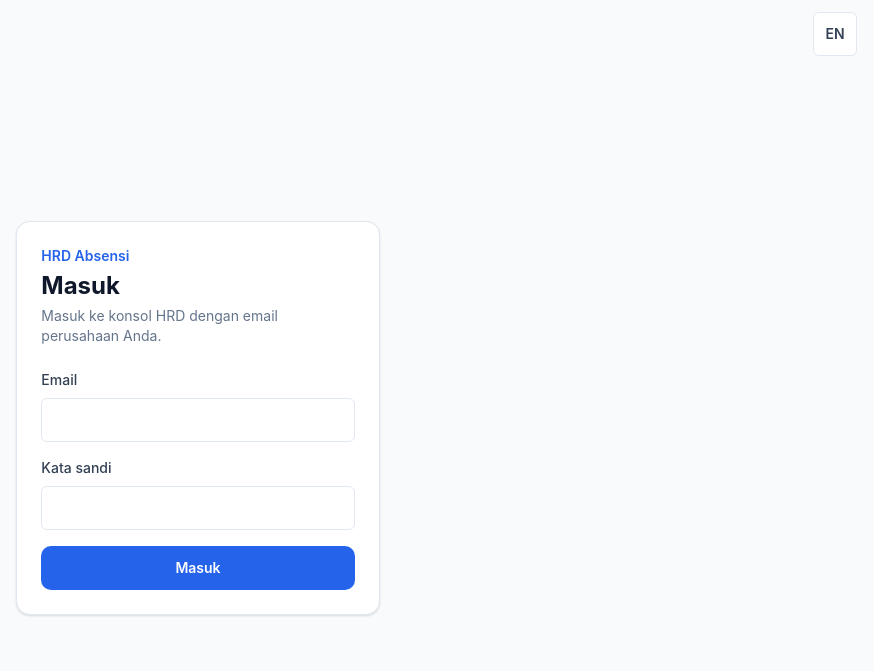
Test: LoginPage › shows the generic failure plus the attempts left on a rejected sign-in
Type "admin@corp.test" into the field labelled "Email" at (198, 420), box [41,398,355,442]
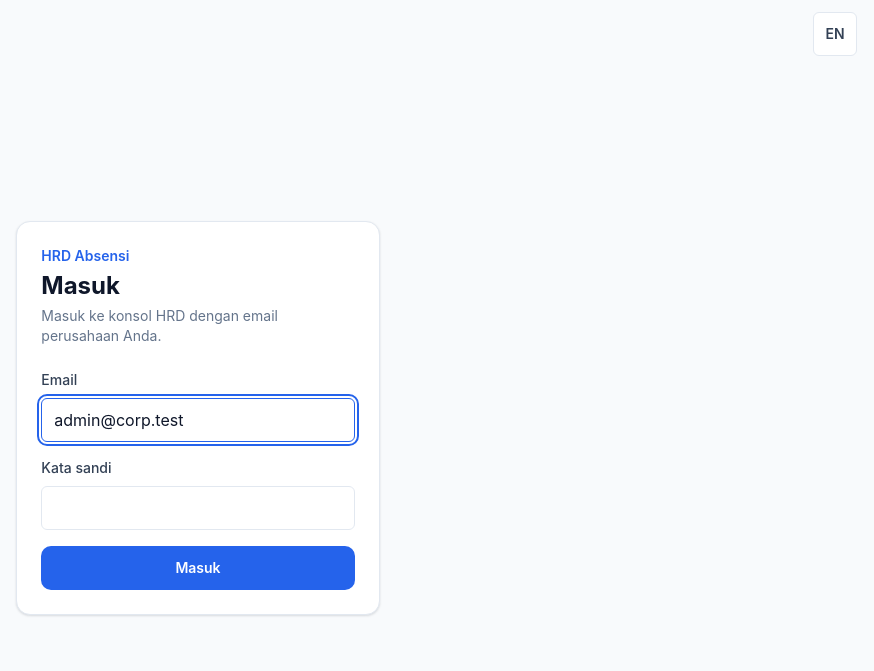
Type "secret-1" into the password field labelled "Kata sandi" at (198, 508), box [41,486,355,530]
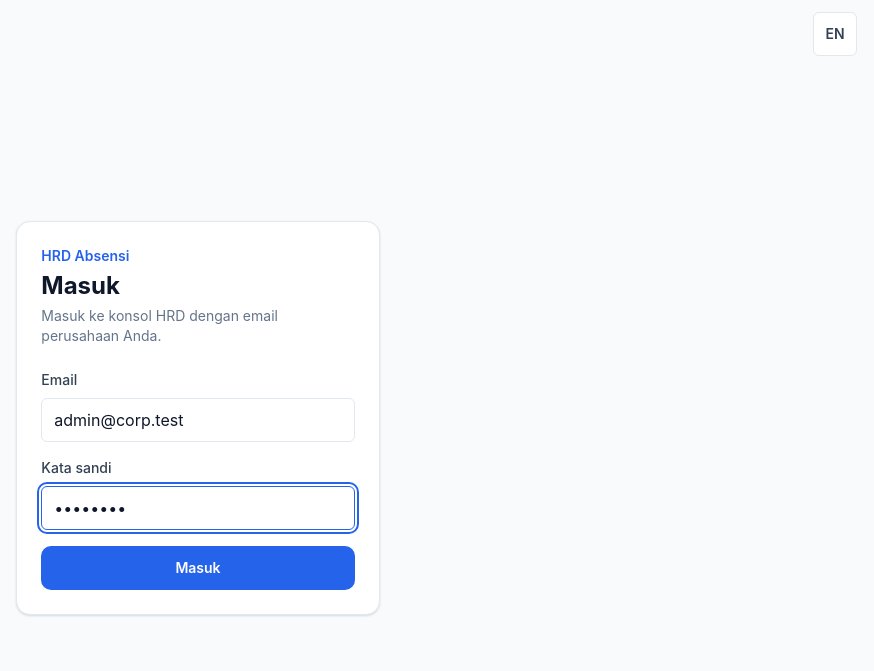
Click the button "Masuk" at (198, 568), box [41,546,355,590]
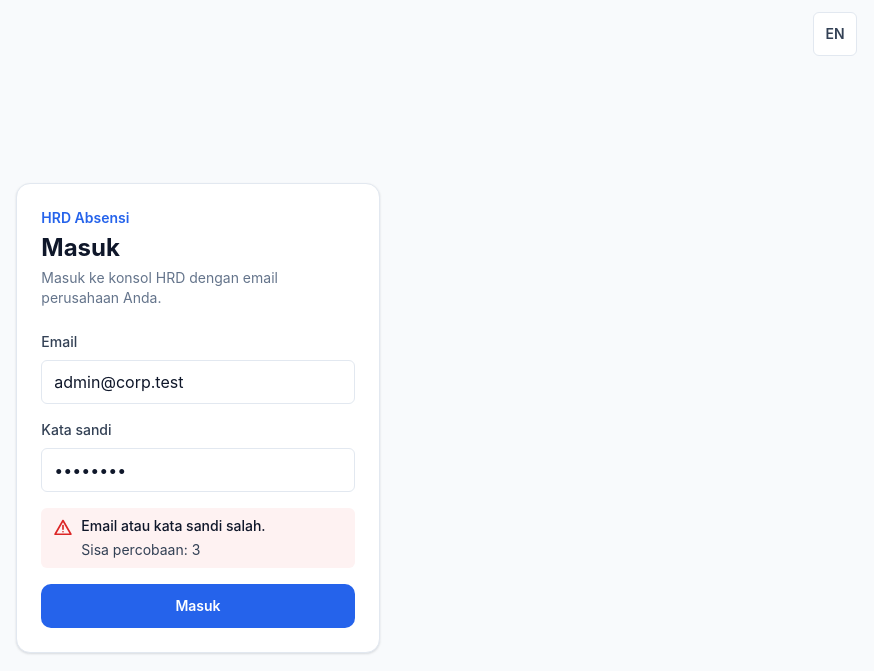
Expected: the message with test id "login-error" shows "Email atau kata sandi salah.", [81,517,266,534]
